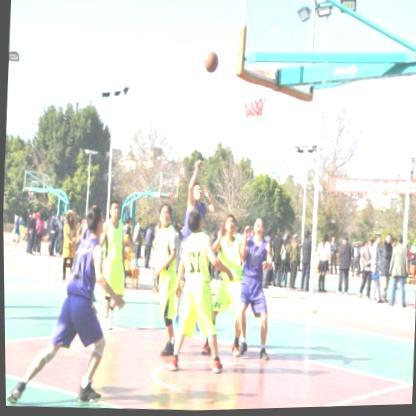basketball: (203, 50, 219, 75)
